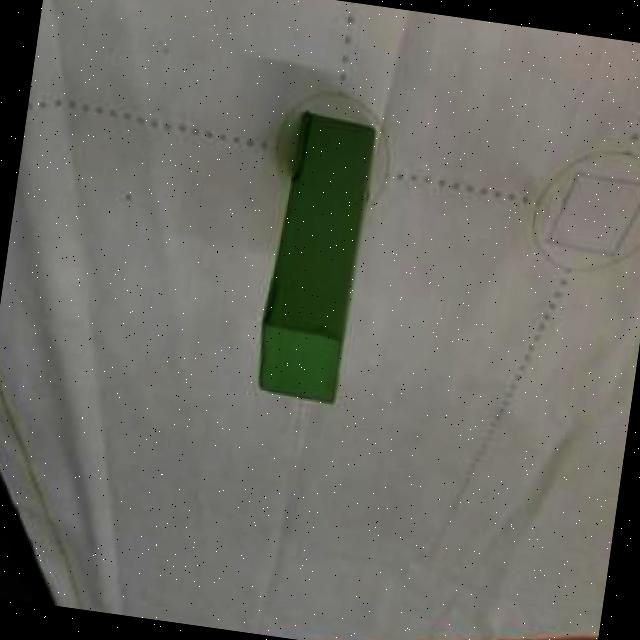greenbox: (255, 108, 382, 406)
